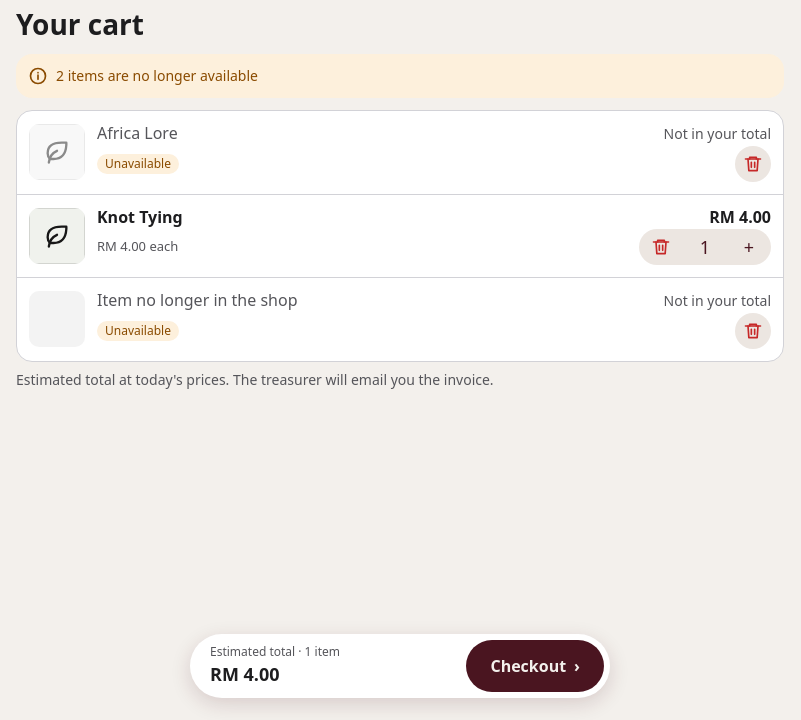
Scenario: CartScreen Unavailable lines › removing an unavailable line lowers the count and shows the note; at 0 the banner goes
Click the button named "Remove Africa Lore" at (753, 164), box top-left (731, 142), bottom-right (775, 186)
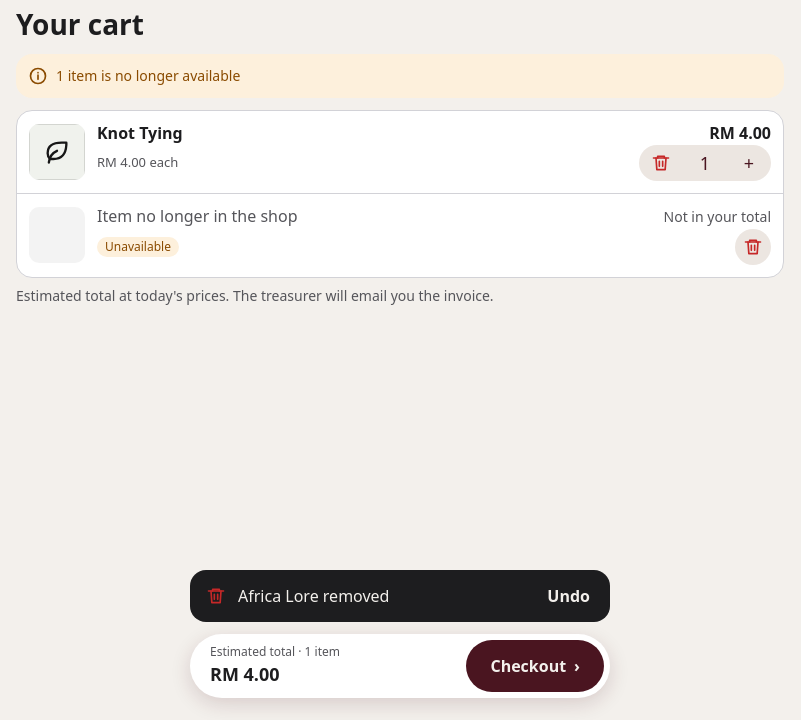
Result: the text "1 item is no longer available" is shown at top-left (16, 54), bottom-right (784, 98)
Result: the button with aria-label "Undo removing Africa Lore" is shown at top-left (531, 574), bottom-right (606, 618)
Click the button named "Remove Item no longer in the shop (no-such-honor)" at (753, 247), box top-left (731, 225), bottom-right (775, 269)
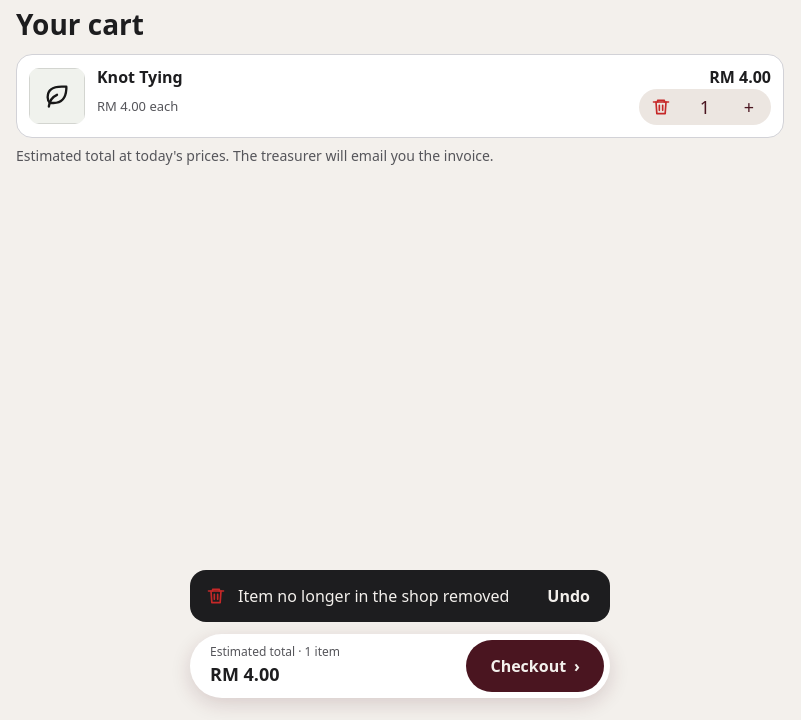
Result: the text "no longer available" is gone
